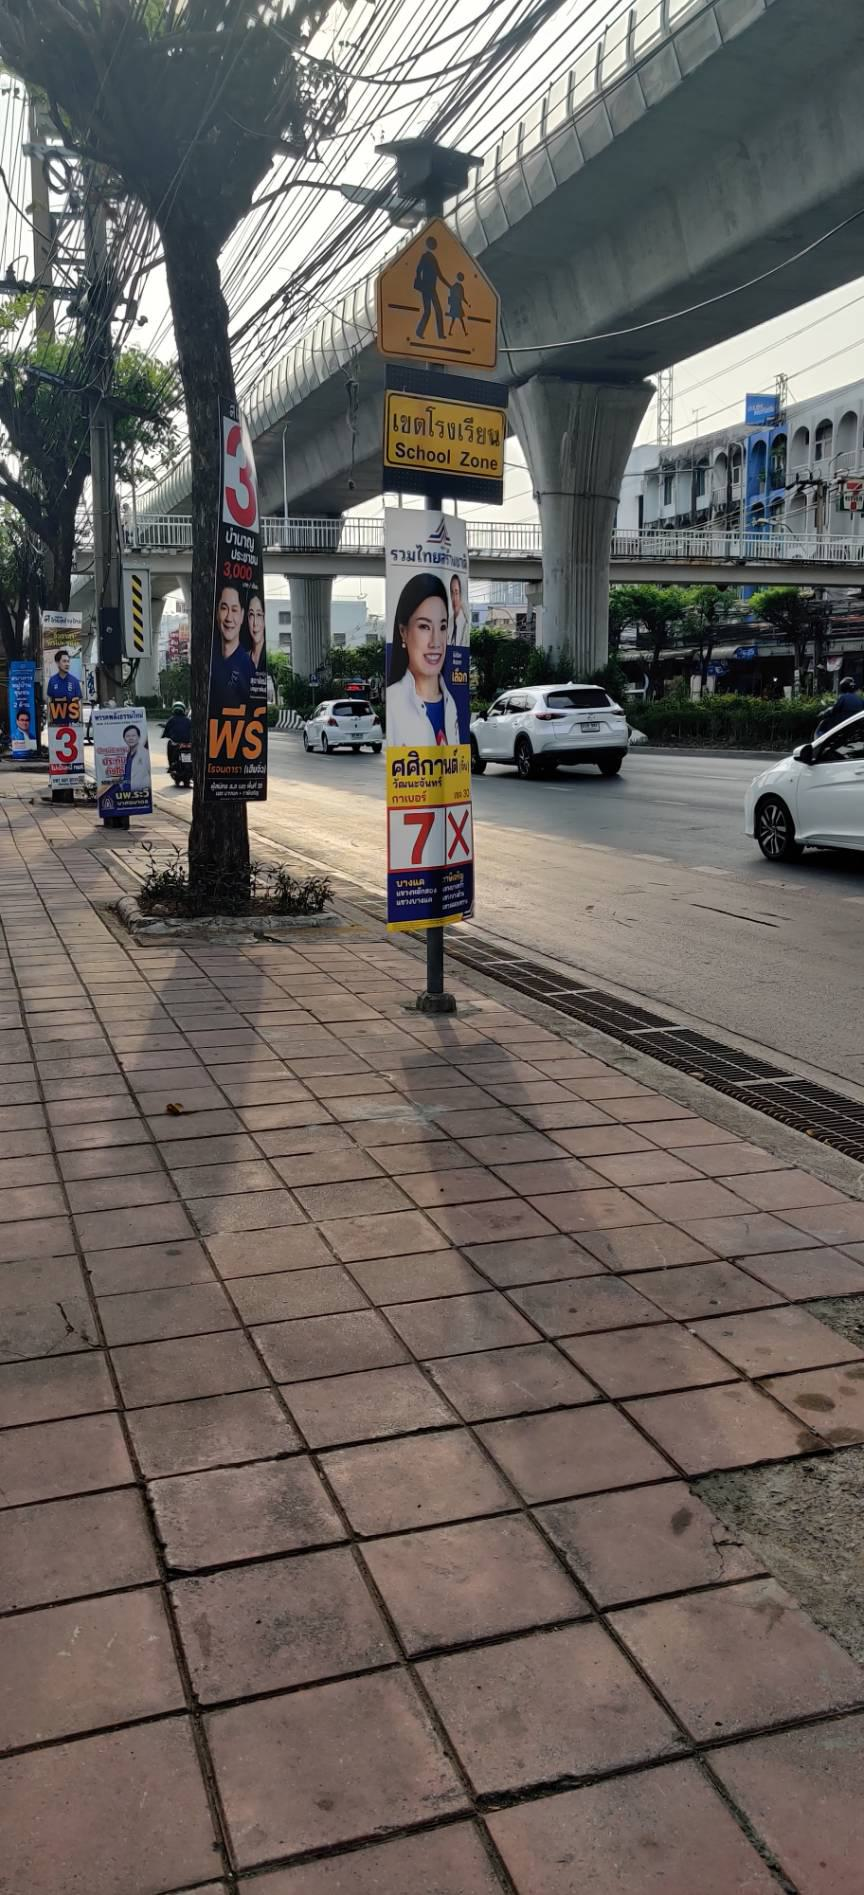Banner: (381, 502, 479, 931), (199, 419, 280, 805), (33, 610, 97, 776)
